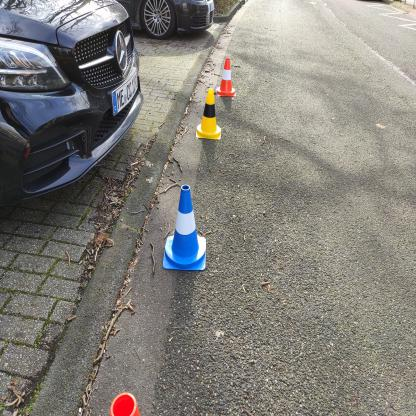Cones_small_blue: (162, 178, 212, 278)
Cones_small_orange: (211, 54, 238, 102)
Cones_small_yellow: (191, 84, 224, 148)
